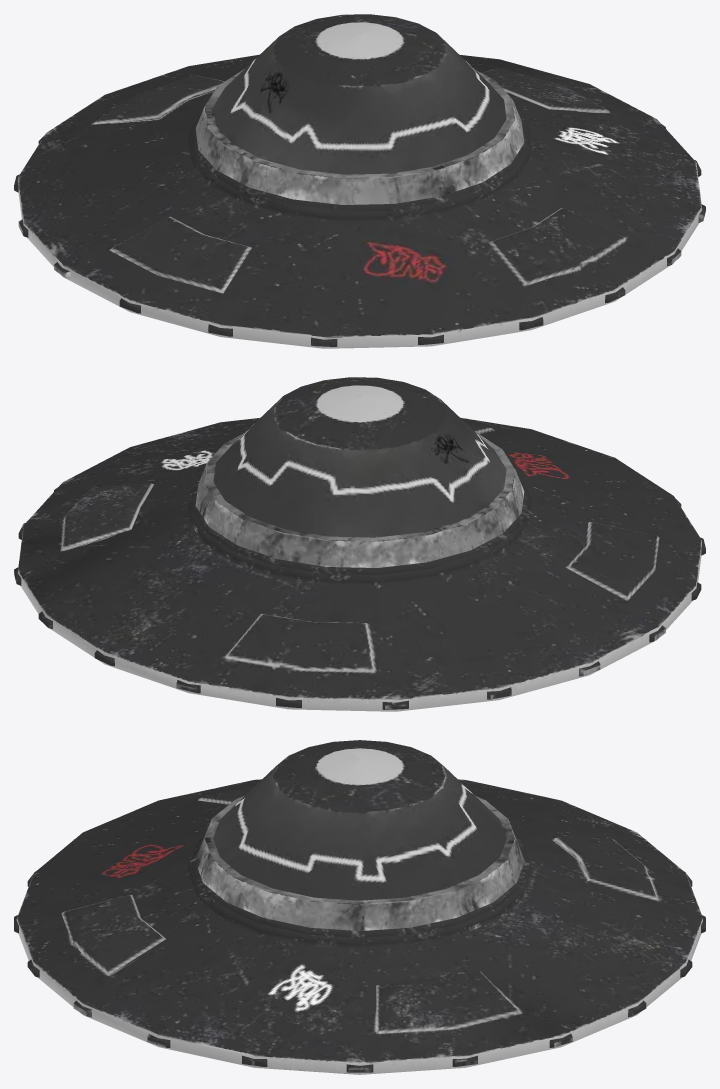
The model's file is ufo.glb.
3 views of the same model, one above another, from view 1: azimuth 30°, elevation 25°; view 2: azimuth 150°, elevation 25°; view 3: azimuth 270°, elevation 25° (orthographic).
Visible parts, largest first — view 1: Object_2; view 2: Object_2; view 3: Object_2.
Part boxes in pixels (x1,y1,x2,y2): Object_2: [14, 14, 705, 348]; Object_2: [14, 377, 705, 711]; Object_2: [14, 740, 705, 1074].
Bounding box in the file's own units: 403 × 158 × 403.
Materials: 1 (1 with a texture image).
